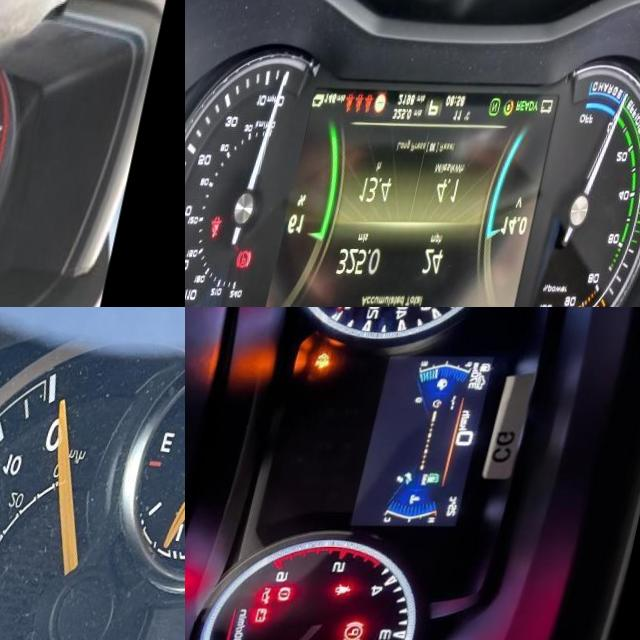Seat Belt: (222, 217, 240, 238), (352, 93, 365, 114), (352, 583, 373, 596), (363, 95, 373, 113), (374, 94, 384, 112)
